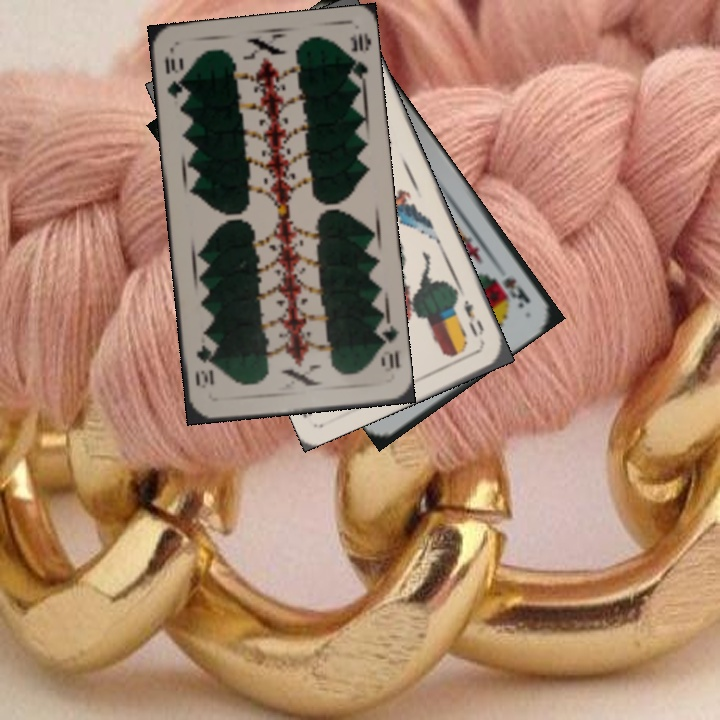EO: (459, 296, 487, 340)
G10: (372, 318, 402, 372), (160, 51, 188, 101)
SK: (498, 273, 533, 311)
